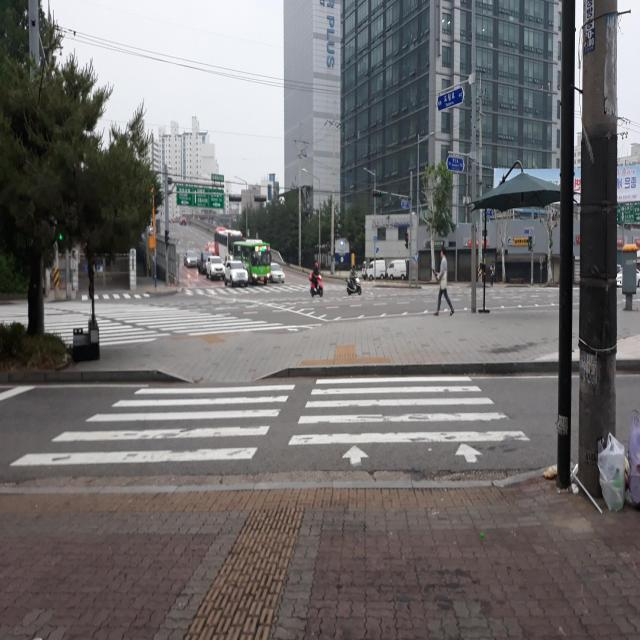빨간불: (404, 231, 410, 252)
초록불: (57, 225, 64, 253), (528, 233, 534, 257)
횡단보도: (7, 373, 532, 468), (0, 302, 298, 346), (186, 282, 368, 300)
